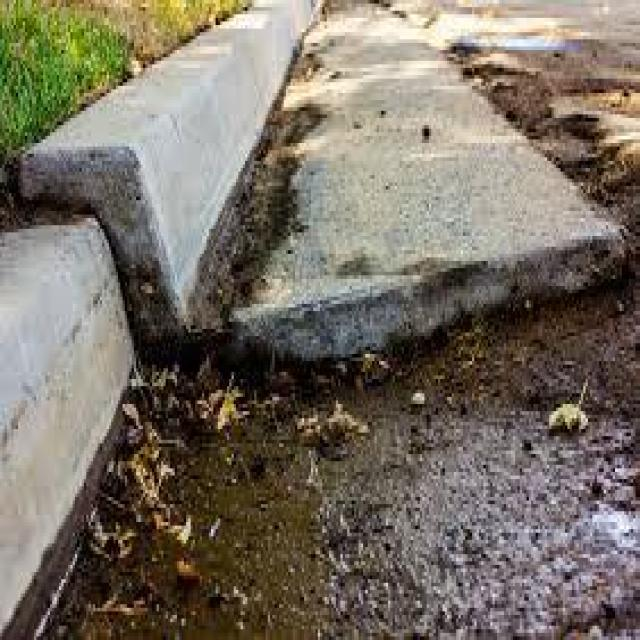curb: (17, 3, 293, 348), (3, 205, 135, 634)
